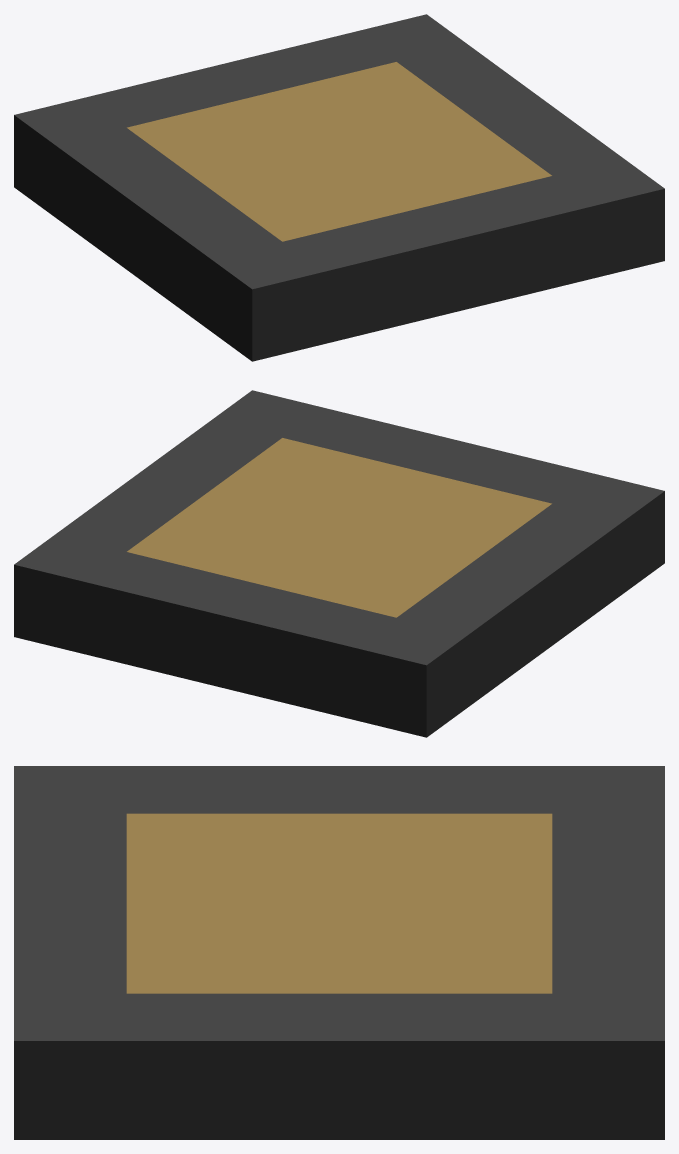
The model's file is TB_CITY_Env_StreetTreePot.FBX.
3 renders of one model, top to bottom at view 1: azimuth 30°, elevation 25°; view 2: azimuth 150°, elevation 25°; view 3: azimuth 270°, elevation 25°, orthographic. The views are drawn at different scales.
Parts seen in each view (by area): view 1: TB_CITY_Env_StreetTreePot; view 2: TB_CITY_Env_StreetTreePot; view 3: TB_CITY_Env_StreetTreePot.
Part boxes in pixels (x1,y1,x2,y2): TB_CITY_Env_StreetTreePot: (14, 14, 664, 361); TB_CITY_Env_StreetTreePot: (14, 390, 664, 737); TB_CITY_Env_StreetTreePot: (14, 766, 664, 1139).
Size of the model in its own units: 1.8 by 0.3016 by 1.8.
